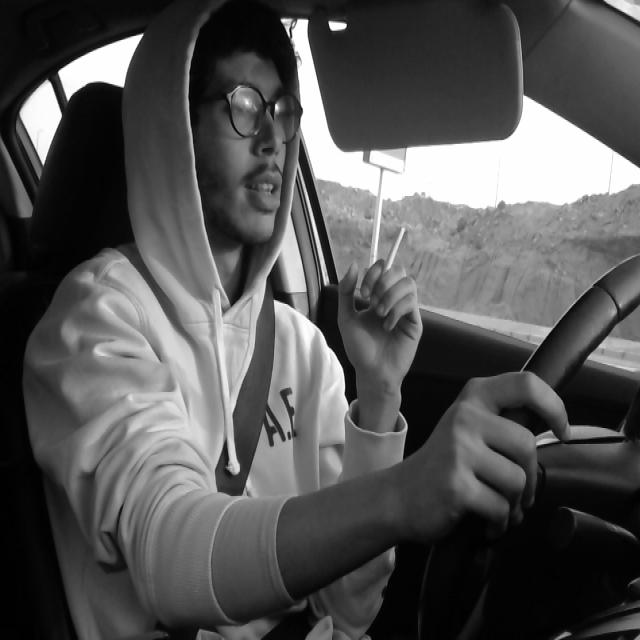smoking: (373, 222, 407, 303)
